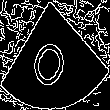O_NE: (31, 21, 79, 89)
